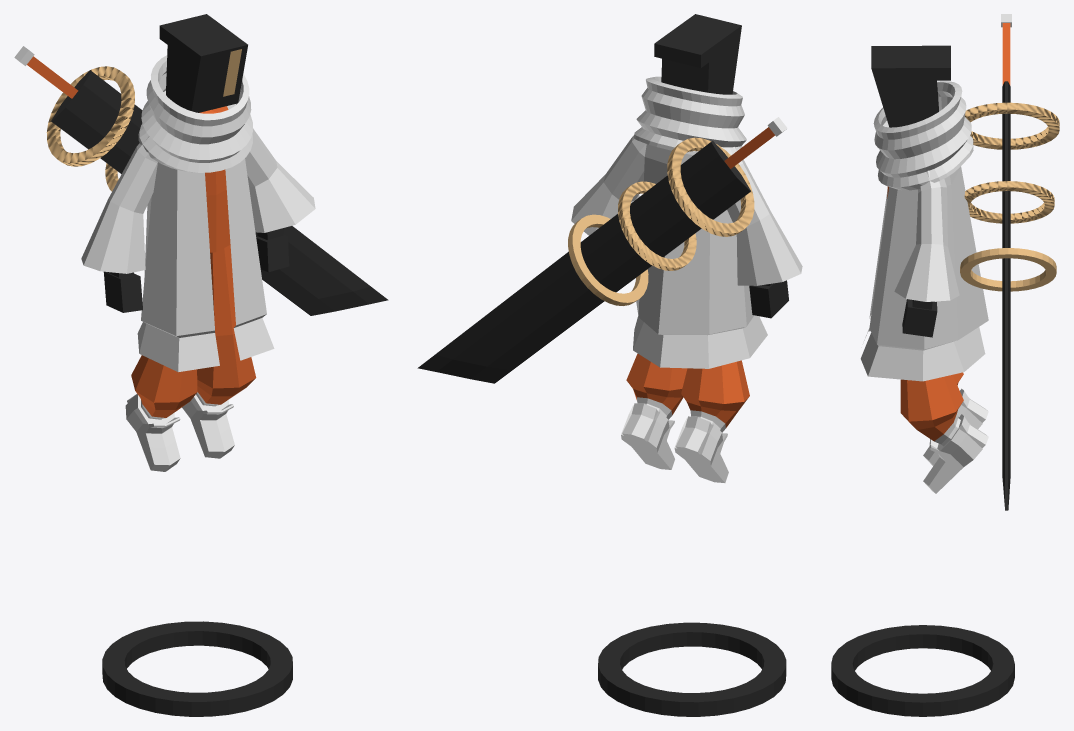
The model's file is ninja1.glb.
The picture shows the model from 3 angles, left to right: view 1: azimuth 30°, elevation 25°; view 2: azimuth 150°, elevation 25°; view 3: azimuth 270°, elevation 25°; orthographic projection. The views are drawn at different scales.
Visible parts, largest first — view 1: Sphere; view 2: Sphere; view 3: Sphere.
Boxes of the visible parts, x1=… form: Sphere: x1=14, y1=14, x2=388, y2=716; Sphere: x1=417, y1=14, x2=802, y2=716; Sphere: x1=831, y1=14, x2=1059, y2=716.
Size of the model in its own units: 1.93 by 3.22 by 1.07.
